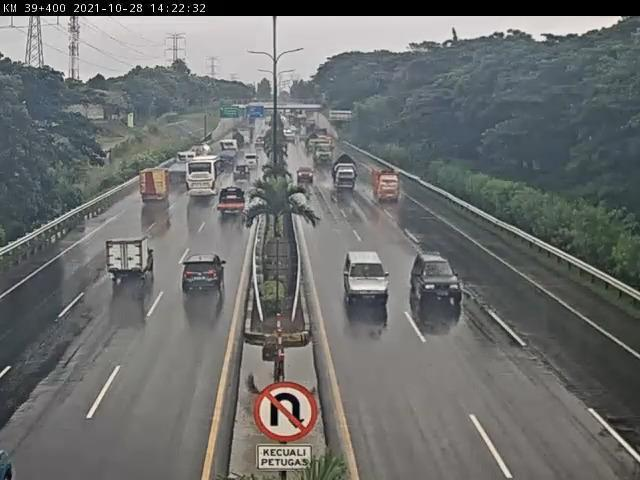bus: (186, 157, 222, 198)
car: (409, 251, 465, 305), (342, 251, 392, 307), (103, 236, 155, 287), (180, 254, 230, 301), (233, 166, 253, 186), (298, 166, 317, 184)
truck: (370, 167, 401, 204), (139, 170, 171, 205), (333, 155, 357, 192), (220, 187, 247, 213)
